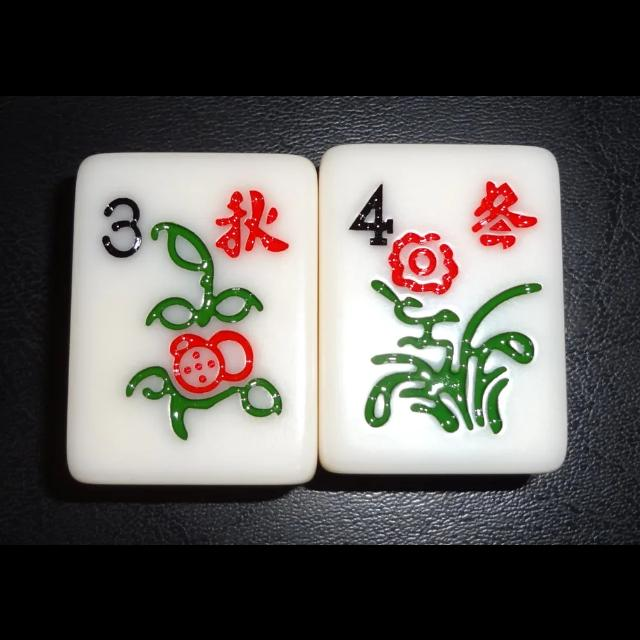s3: (76, 156, 304, 270)
s4: (326, 149, 550, 261)
